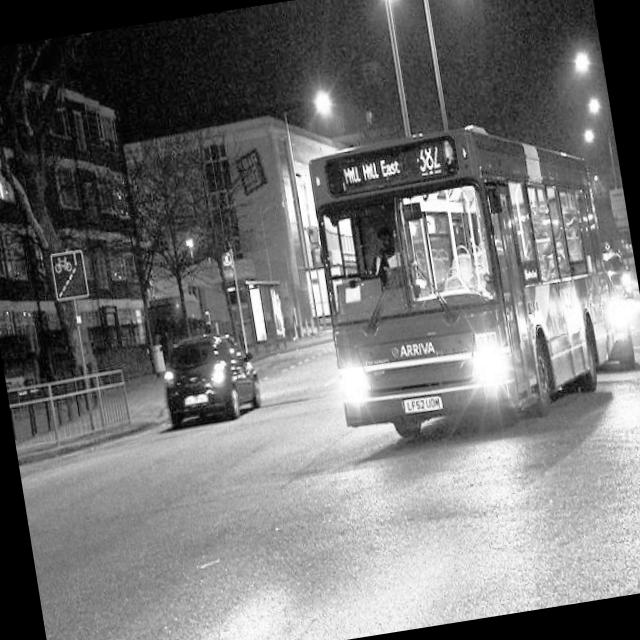Bus: (288, 78, 633, 460)
Car: (144, 308, 268, 466)
